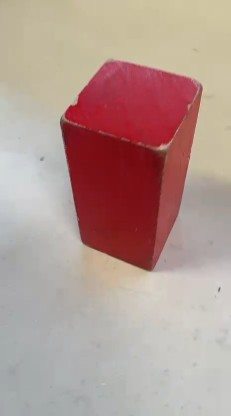red: (73, 66, 184, 251)
